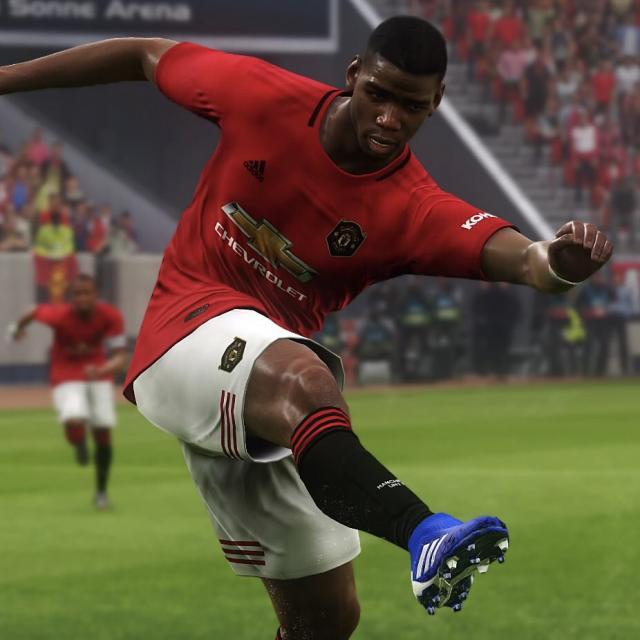Adidas: (242, 157, 270, 184)
Chevrolet: (215, 201, 318, 304)
